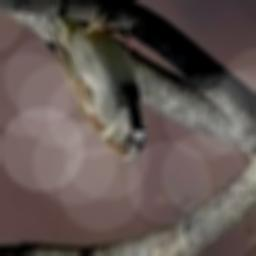Sparrow: (29, 0, 147, 161)
